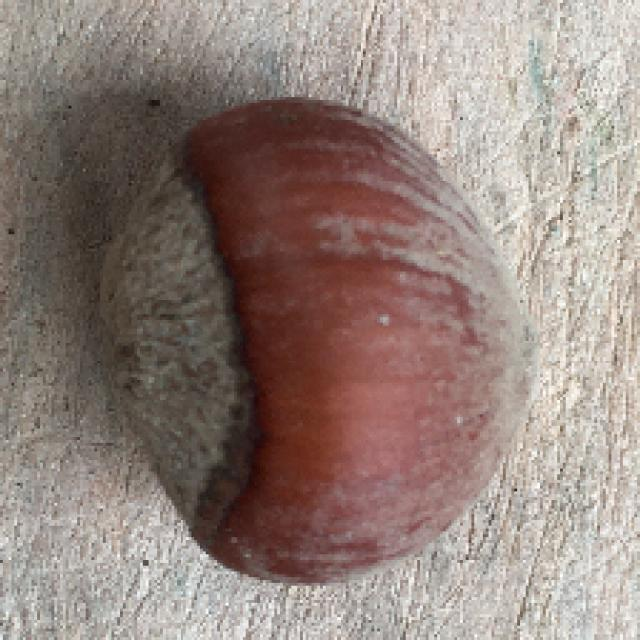qualityHazelnut: (98, 93, 546, 586)
